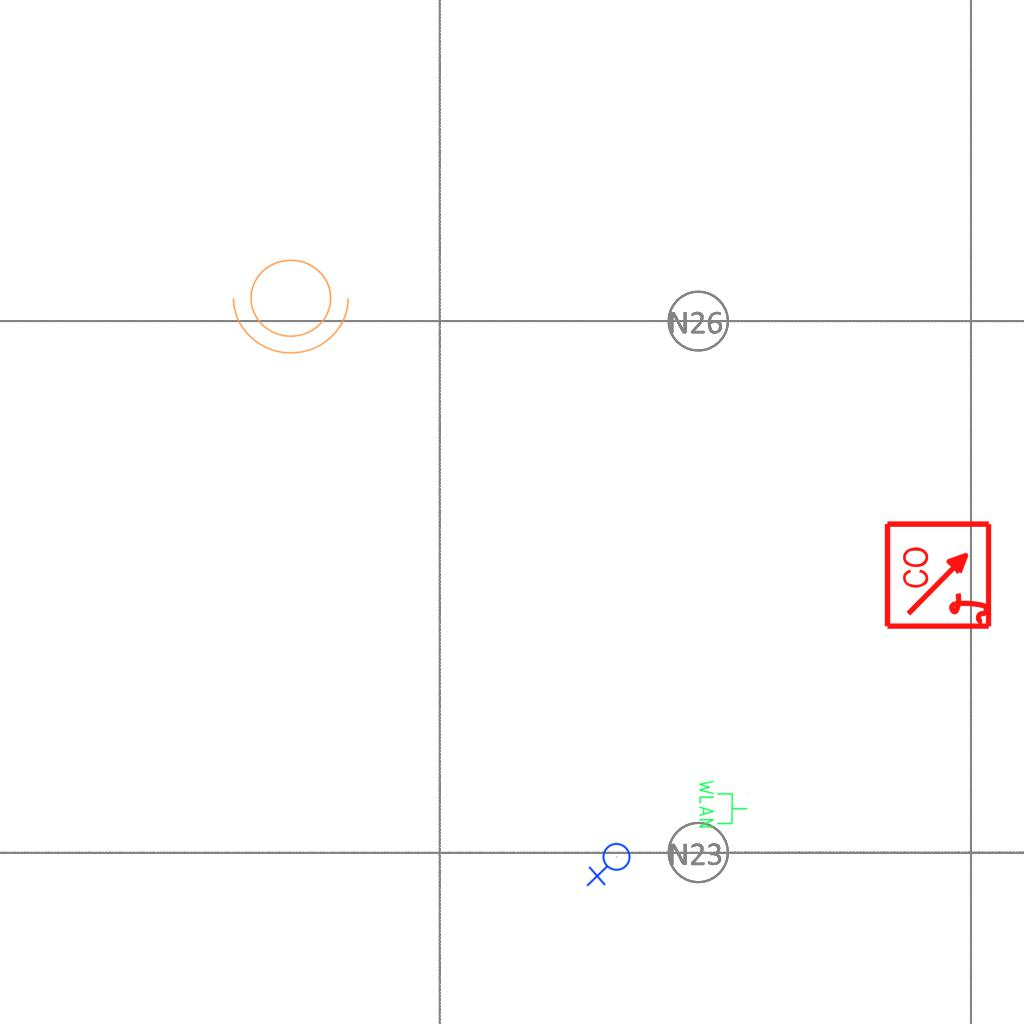Elektroanschluss_allgemein_230V_Geraeteanschlussdose_230V: (586, 842, 635, 889)
ROA_Rauchmelder_optisch_mit_Signalgeber_(Sockelsirene): (883, 518, 996, 631)
Scheinwerfer_fuer_Alarmbeleuchtung: (228, 247, 360, 359)
WLAN: (697, 778, 749, 830)
